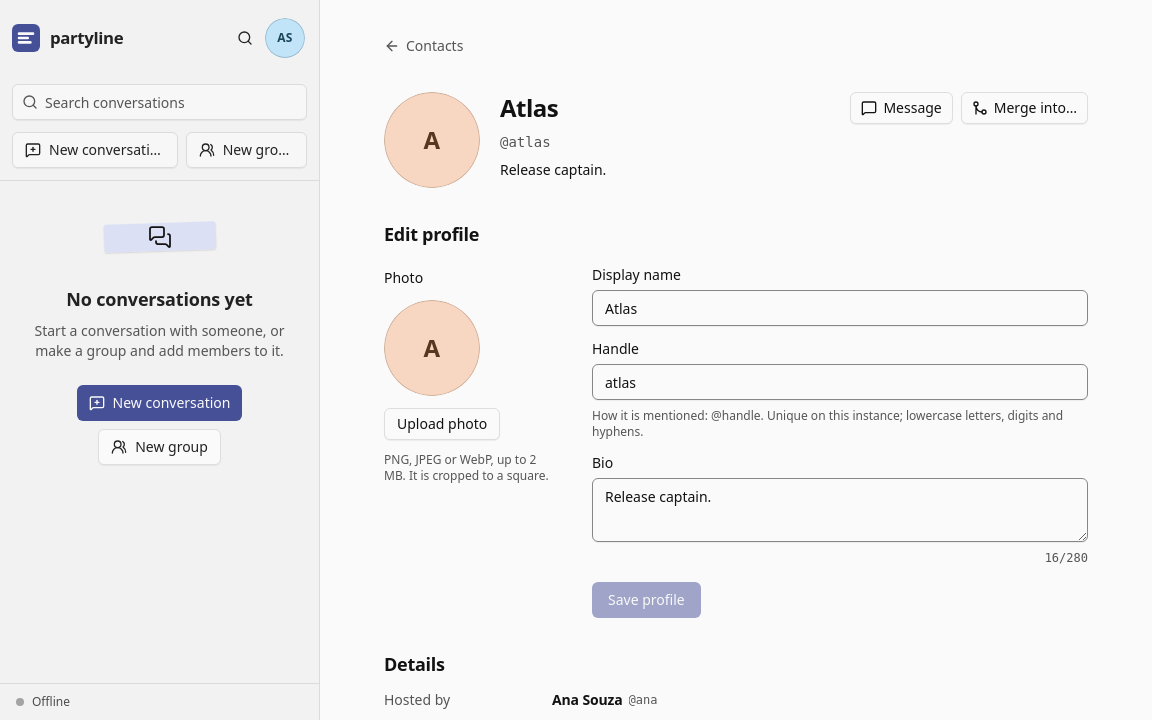
Test case: editing a profile (PROF-03, PROF-05) › can empty the bio
Clear the text box labelled "Bio" at (840, 510), box [592,478,1088,542]
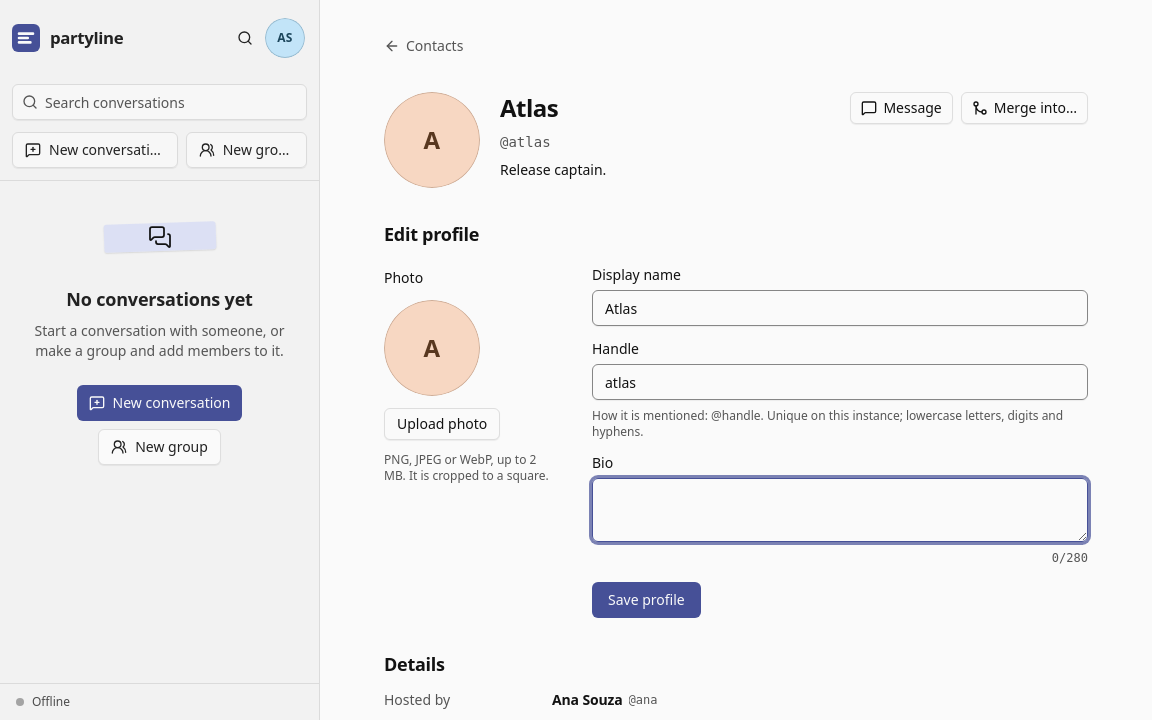
Click the button "Save profile" at (646, 600), box [592,582,701,618]
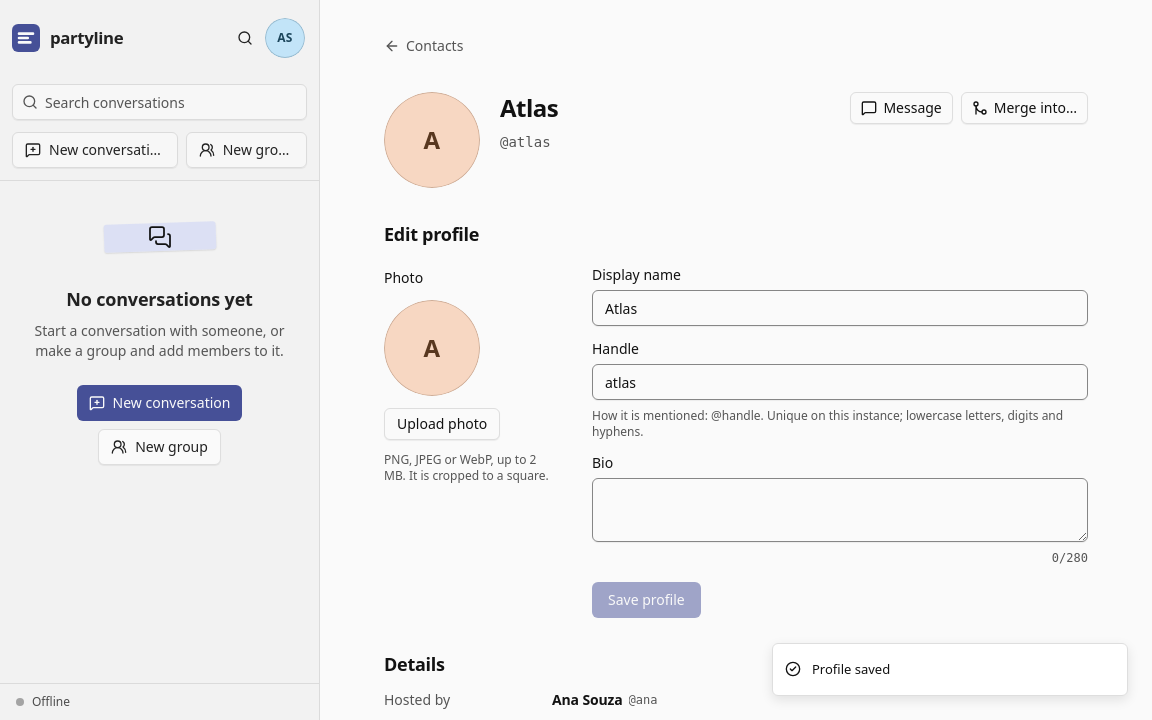
expect the text "Profile saved" is shown: met, box [812,660,890,679]
